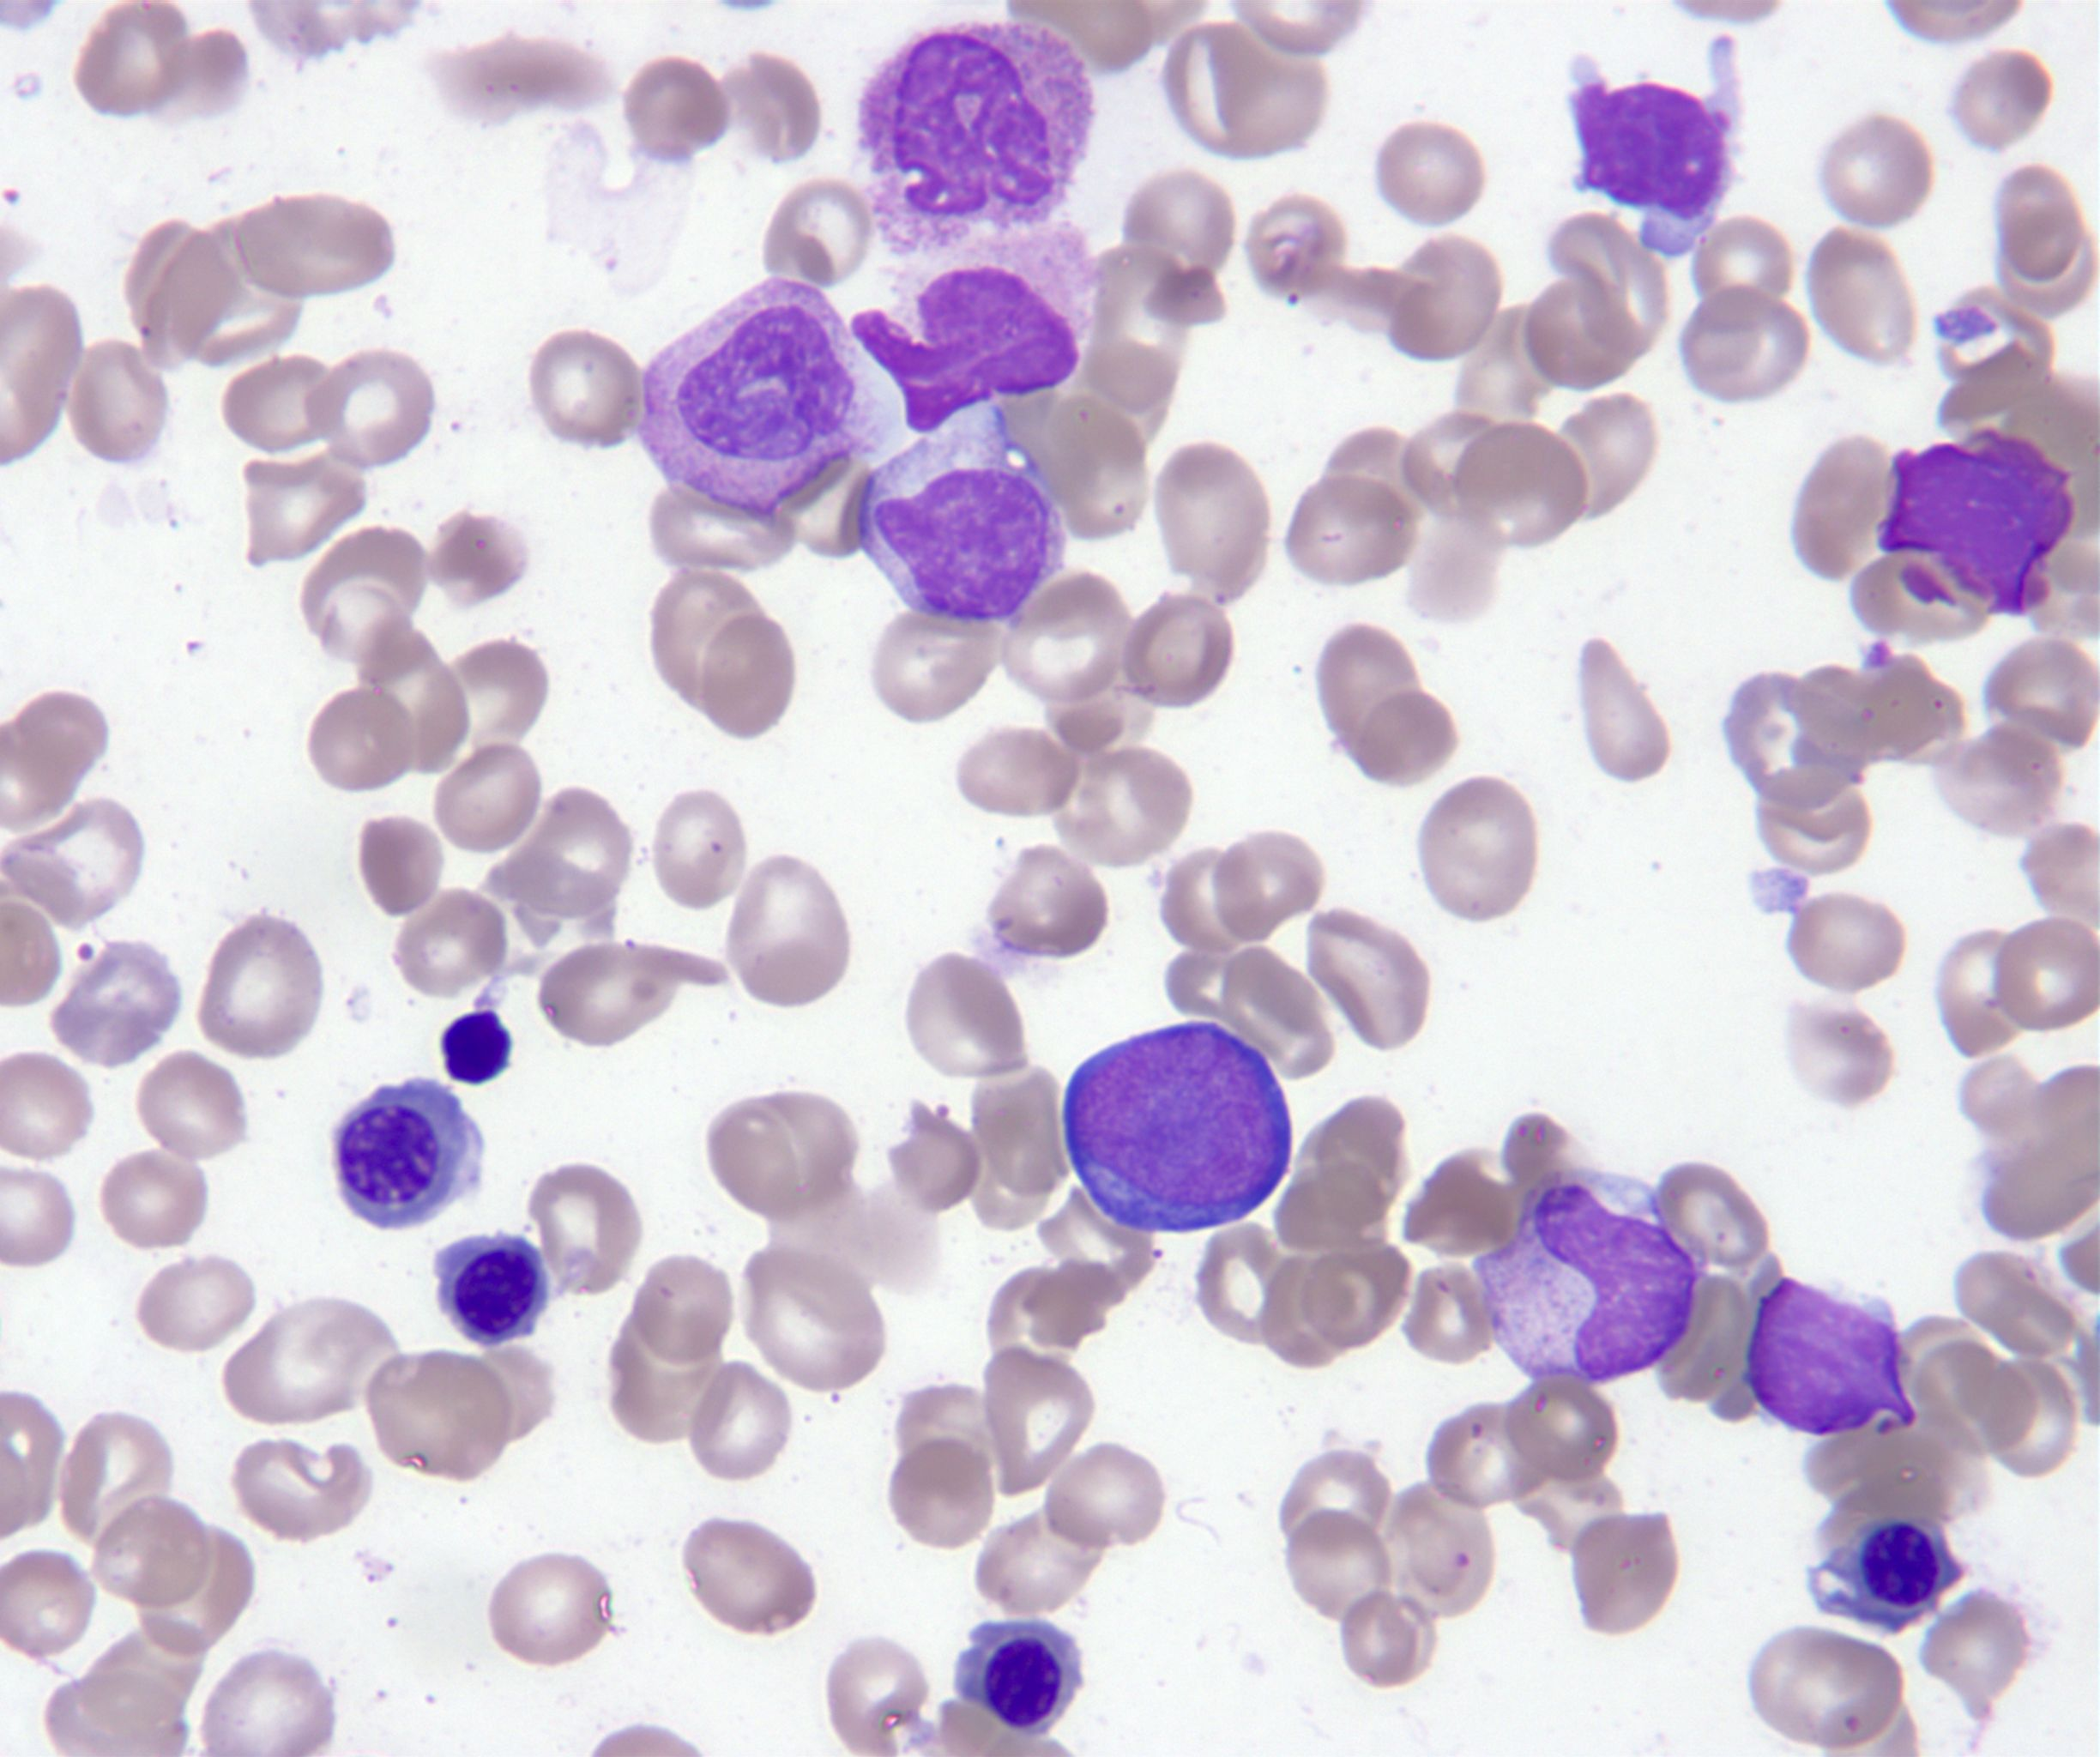1: (1064, 1024, 1289, 1234)
24: (335, 1078, 483, 1234), (1810, 1518, 1971, 1635), (952, 1621, 1081, 1736), (431, 1241, 551, 1349)
3: (860, 403, 1066, 621)
31: (1746, 1277, 1920, 1434)
32: (1568, 33, 1742, 256)
4: (1476, 1172, 1695, 1387)
5: (635, 277, 874, 522)
x: (856, 21, 1092, 258), (853, 222, 1101, 436), (1875, 433, 2079, 612), (443, 1012, 513, 1084)
